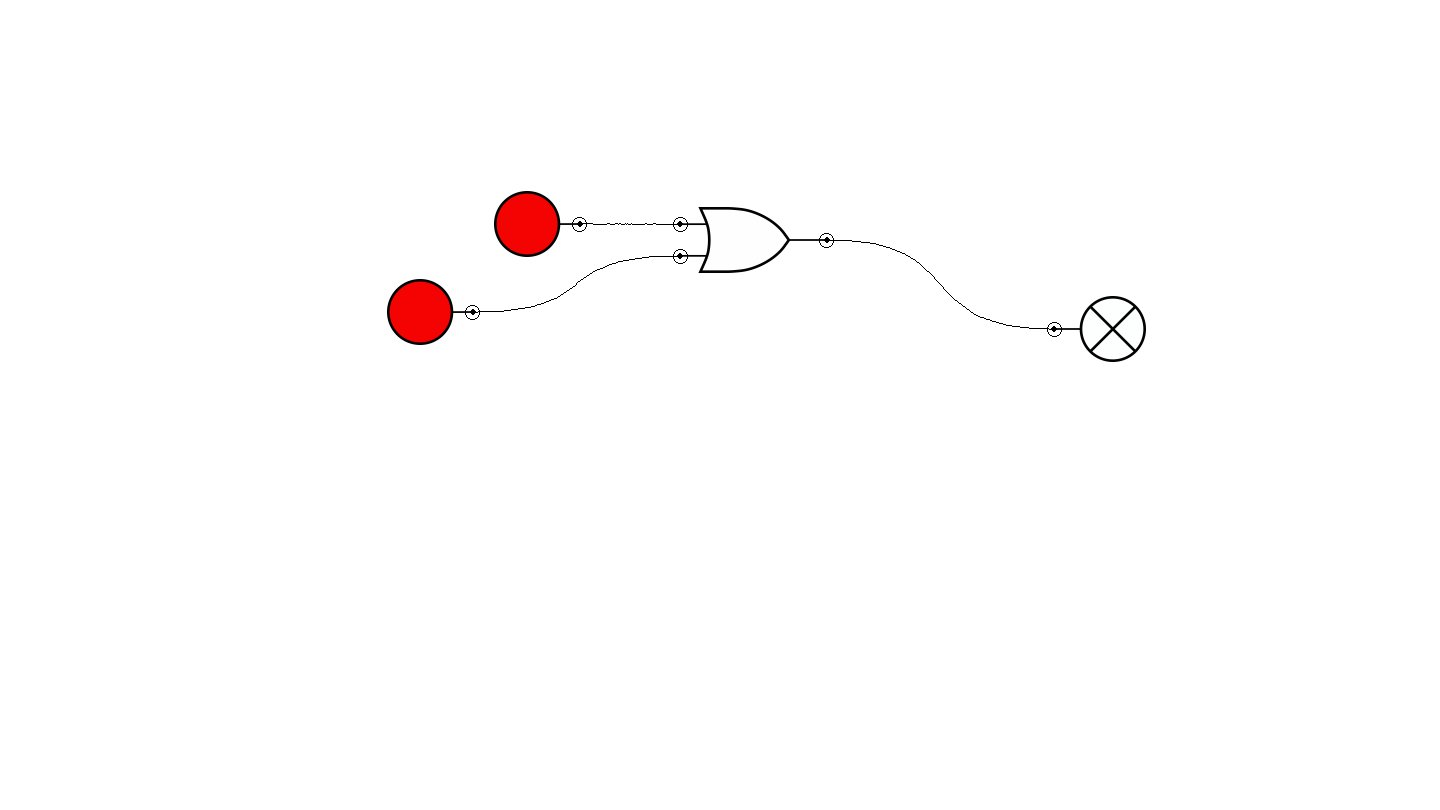bulb: (1047, 296, 1146, 362)
or: (673, 207, 834, 273)
switch_False: (387, 279, 480, 345), (494, 191, 587, 257)
